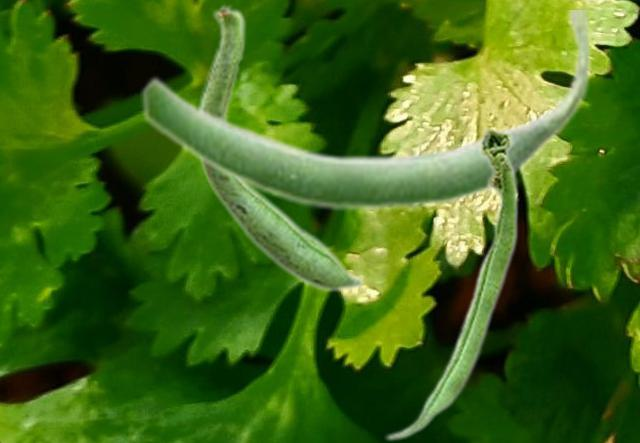french_bean: (140, 10, 592, 213), (196, 2, 364, 292), (384, 125, 518, 441)
